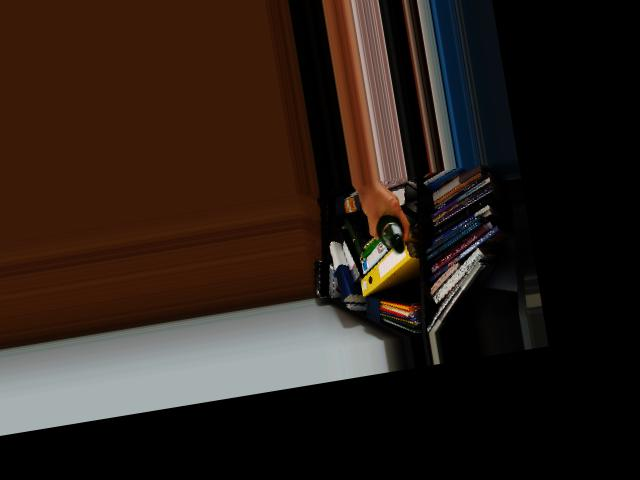beer: (374, 212, 406, 255)
